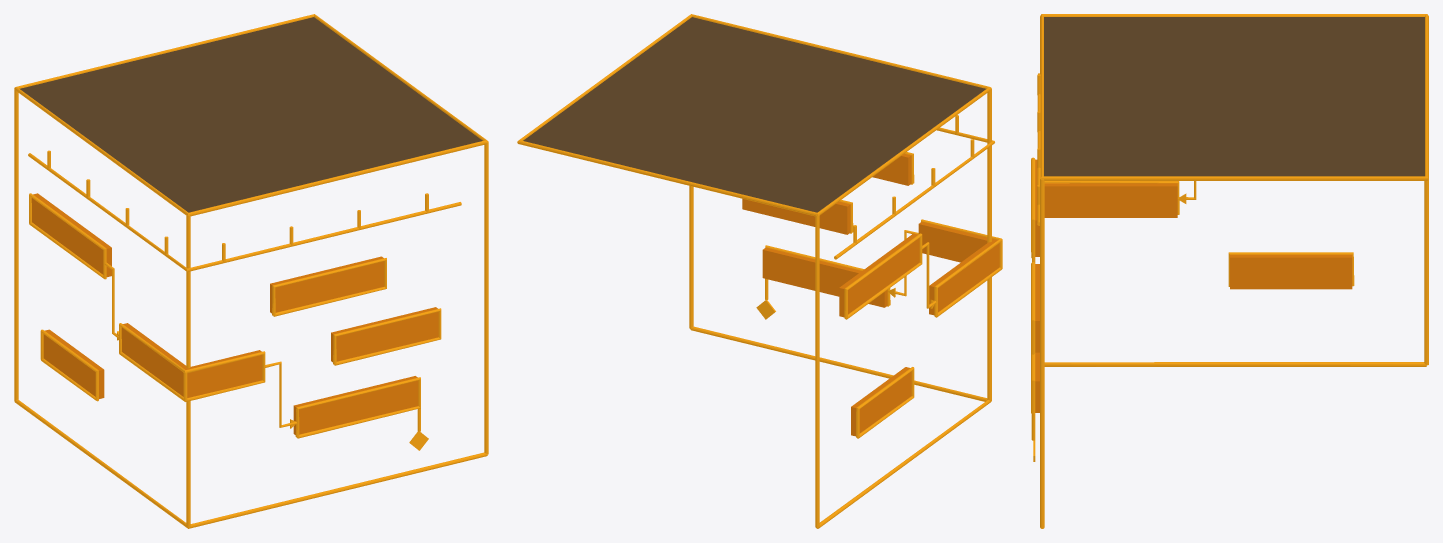
File: open-planner-studio.glb
The picture shows the model from 3 angles, left to right: view 1: azimuth 30°, elevation 25°; view 2: azimuth 150°, elevation 25°; view 3: azimuth 270°, elevation 25°; orthographic projection. The views are drawn at different scales.
Parts seen in each view (by area): view 1: Cube | top plane, Cube edge | top perimeter, Task 03 | continuous corner-wrapped solid, Task 06 | solid Gantt bar, Task 02 | solid Gantt bar, Task 04 | solid Gantt bar, Cube edge | lower open sides, Task 01 | solid Gantt bar, Timeline | continuous around both faces, Task 05 | solid Gantt bar, Cube edge | vertical 2, Cube edge | vertical 0 (+7 smaller); view 2: Cube | top plane, Cube edge | top perimeter, Task 03 | continuous corner-wrapped solid, Task 06 | solid Gantt bar, Task 01 | solid Gantt bar, Cube edge | lower open sides, Task 05 | solid Gantt bar, Task 04 | solid Gantt bar, Cube edge | vertical 0, Cube edge | vertical 1, Timeline | continuous around both faces, Task 03 | continuous perimeter (+4 smaller); view 3: Cube | top plane, Task 03 | continuous corner-wrapped solid, Task 05 | solid Gantt bar, Cube edge | top perimeter, Cube edge | lower open sides, Cube edge | vertical 2, Cube edge | vertical 0, Task 05 | continuous perimeter, Task 03 | continuous perimeter, Task 02 | continuous perimeter.
Boxes of the visible parts, x1,y1,x2,y2 form: Cube | top plane: (20,17,482,212); Cube edge | top perimeter: (14,14,488,216); Task 03 | continuous corner-wrapped solid: (121,323,262,397); Task 06 | solid Gantt bar: (293,376,418,434); Task 02 | solid Gantt bar: (270,256,384,313); Task 04 | solid Gantt bar: (331,307,438,362); Cube edge | lower open sides: (14,399,487,528); Task 01 | solid Gantt bar: (31,193,111,277); Timeline | continuous around both faces: (28,153,461,271); Task 05 | solid Gantt bar: (43,329,104,398); Cube edge | vertical 2: (484,142,488,454); Cube edge | vertical 0: (14,89,18,400); Cube | top plane: (523,17,985,212); Cube edge | top perimeter: (517,14,991,216); Task 03 | continuous corner-wrapped solid: (918,222,999,315); Task 06 | solid Gantt bar: (762,247,887,307); Task 01 | solid Gantt bar: (839,233,919,317); Cube edge | lower open sides: (690,326,991,528); Task 05 | solid Gantt bar: (851,367,911,436); Task 04 | solid Gantt bar: (742,198,850,234); Cube edge | vertical 0: (815,215,819,527); Cube edge | vertical 1: (987,89,991,401); Timeline | continuous around both faces: (834,127,994,259); Task 03 | continuous perimeter: (921,219,1002,317); Cube | top plane: (1044,17,1424,176); Task 03 | continuous corner-wrapped solid: (1035,183,1177,256); Task 05 | solid Gantt bar: (1230,254,1352,289); Cube edge | top perimeter: (1040,14,1428,180); Cube edge | lower open sides: (1040,362,1426,528); Cube edge | vertical 2: (1040,178,1044,527); Cube edge | vertical 0: (1424,16,1428,365); Task 05 | continuous perimeter: (1228,252,1354,286); Task 03 | continuous perimeter: (1031,181,1179,257); Task 02 | continuous perimeter: (1031,157,1035,253).
Size of the model in its own units: 4.56 by 4.45 by 4.56.
